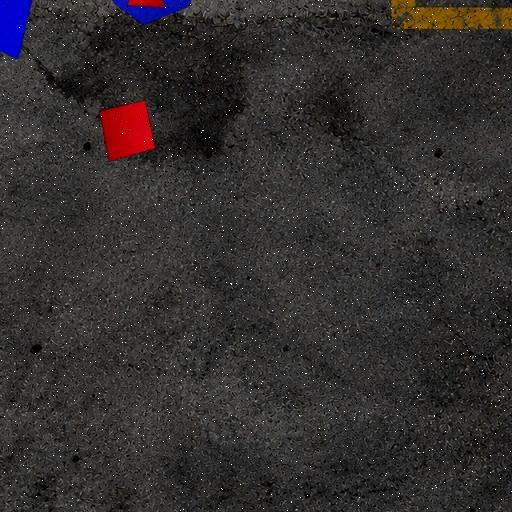RED_SQUARE: (99, 100, 156, 162)
